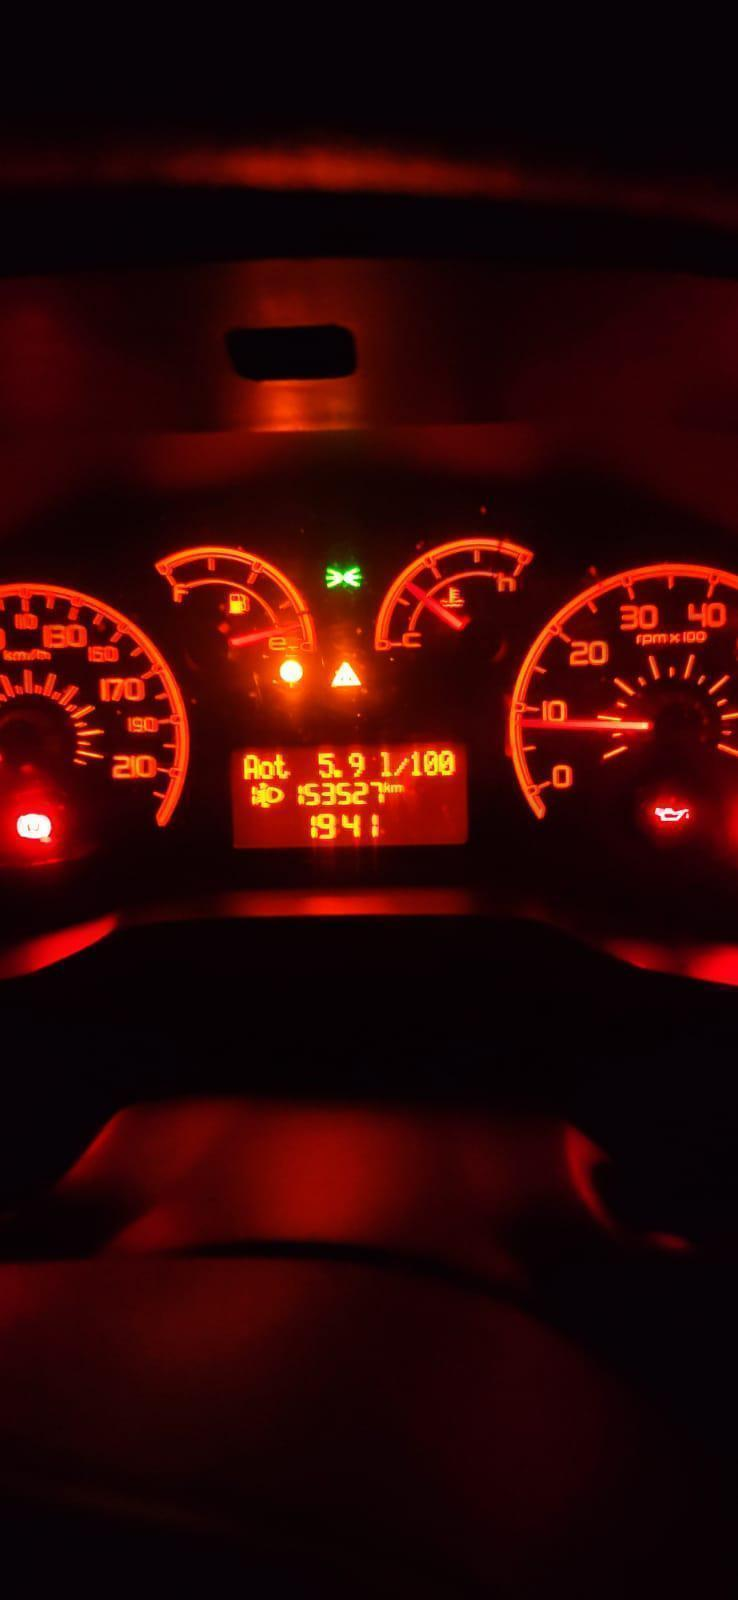,: (333, 767, 343, 780)
0: (423, 750, 439, 777), (440, 750, 455, 776)
1: (368, 812, 381, 840), (411, 749, 421, 778), (310, 814, 318, 840), (296, 781, 303, 806), (251, 785, 256, 808)
2: (352, 780, 367, 806)
3: (322, 781, 335, 806)
4: (342, 813, 361, 840)
5: (316, 751, 333, 778), (335, 781, 351, 804), (304, 782, 319, 805)
7: (370, 780, 385, 804)
9: (317, 812, 336, 840), (348, 751, 364, 776)
X: (275, 752, 291, 782), (379, 749, 393, 778), (243, 754, 258, 779), (394, 757, 408, 777), (259, 761, 274, 779), (391, 783, 403, 793), (385, 781, 392, 794)
odometer: (224, 739, 472, 850)
